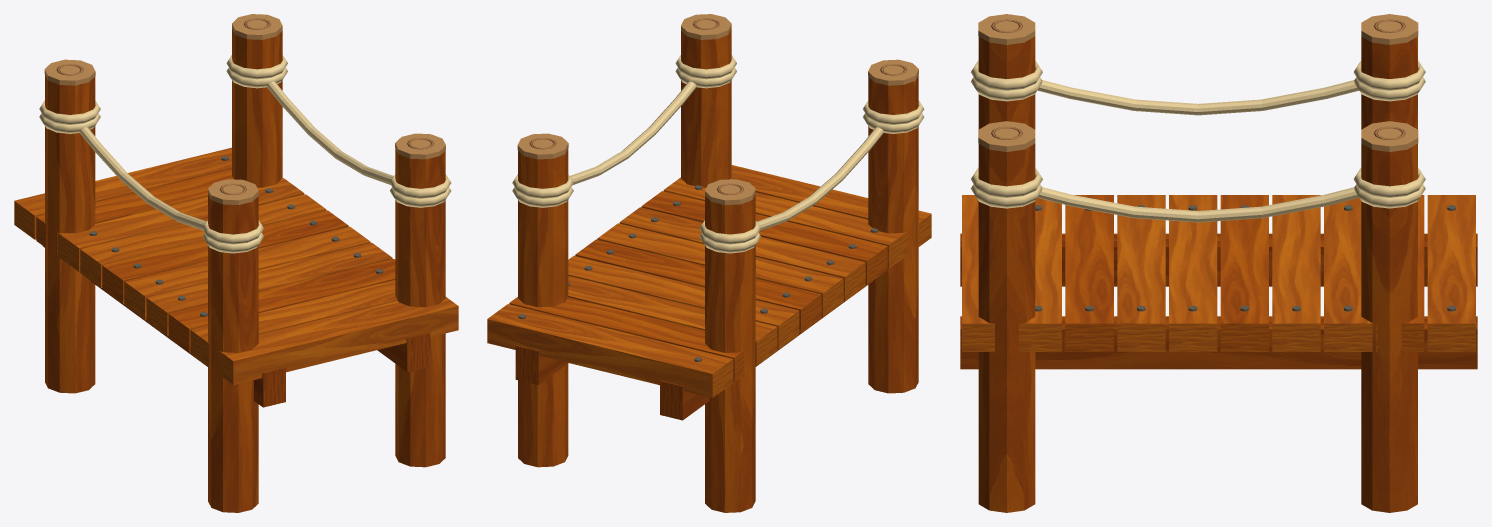
The model's file is dock-pier-extension.gltf.
3 renders of one model, left to right at view 1: azimuth 30°, elevation 25°; view 2: azimuth 150°, elevation 25°; view 3: azimuth 270°, elevation 25°, orthographic. The views are drawn at different scales.
Parts seen in each view (by area): view 1: dock-pier-extension; view 2: dock-pier-extension; view 3: dock-pier-extension.
Part boxes in pixels (x1,y1,x2,y2): dock-pier-extension: [14, 14, 458, 512]; dock-pier-extension: [487, 14, 931, 512]; dock-pier-extension: [960, 14, 1477, 512].
Bounding box in the file's own units: 1.26 × 1.57 × 2.
2 materials, 1 textured.
